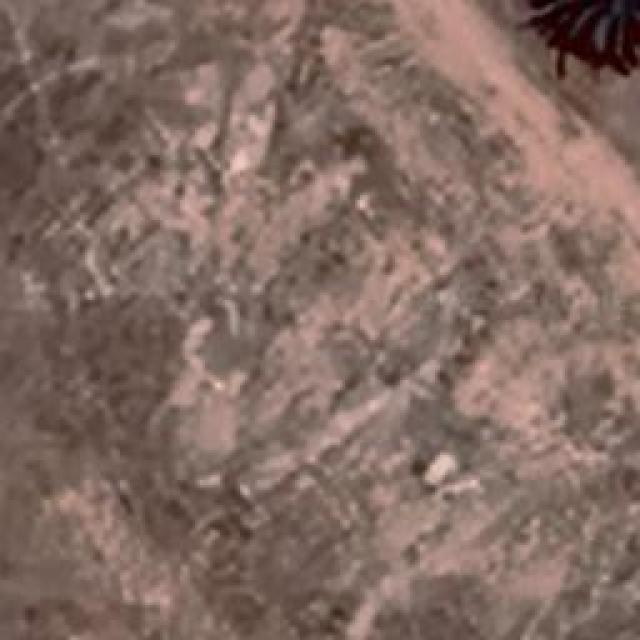PalmTree: (542, 0, 640, 78)
